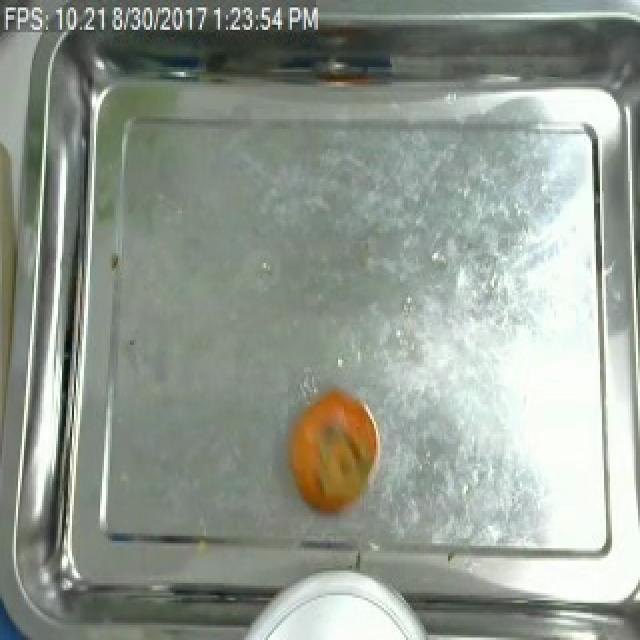Fruit: (280, 387, 384, 518)
